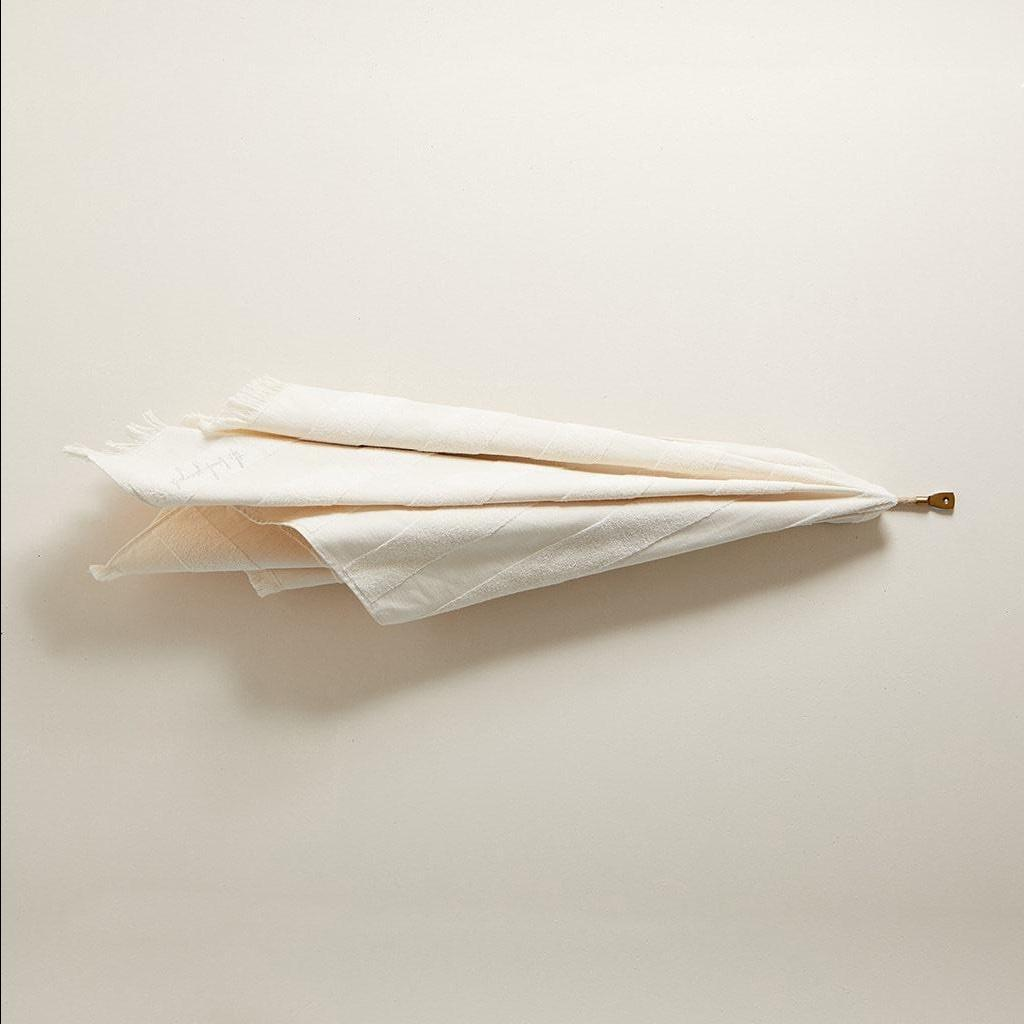towel: (52, 332, 980, 698)
